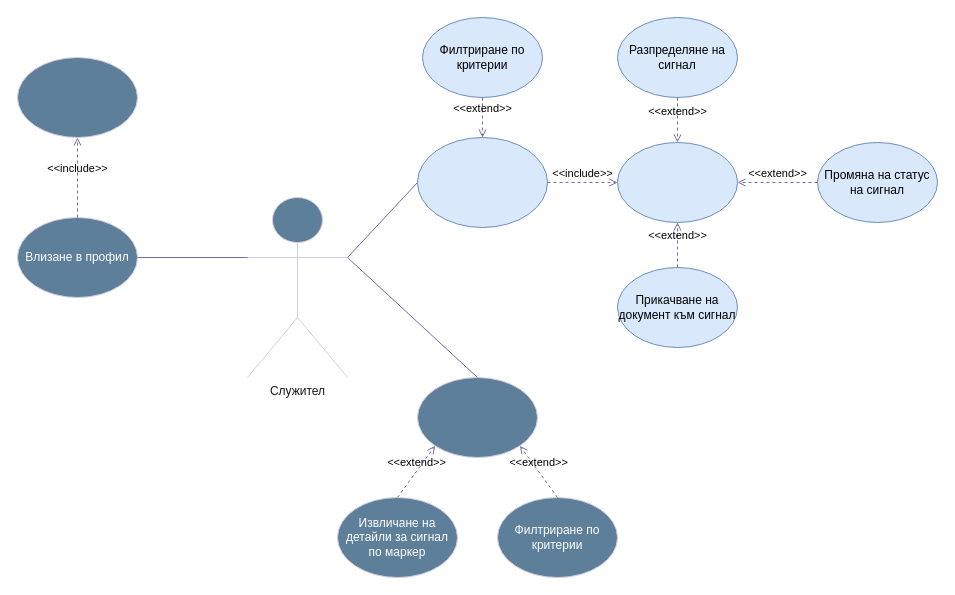
Image size: 955x595. Some labels were removed from this diagram. Here are the shapes that lost their labels. From the top down, the centre of each, then its label:
point 77,97: Вписване на име и парола
point 482,182: Преглед на списък с разпределени/свободни сигнали
point 677,182: Визуализация на детайли за сигнал
point 477,417: Преглед на сигнали по карта
